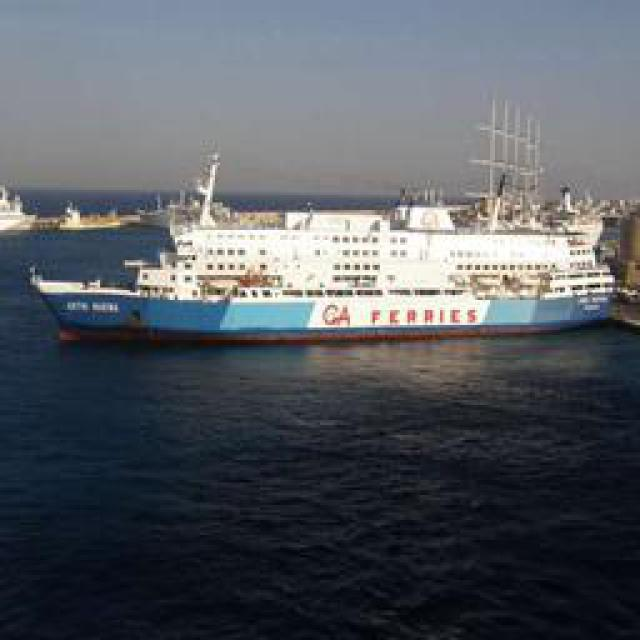Ship: (16, 201, 629, 354)
